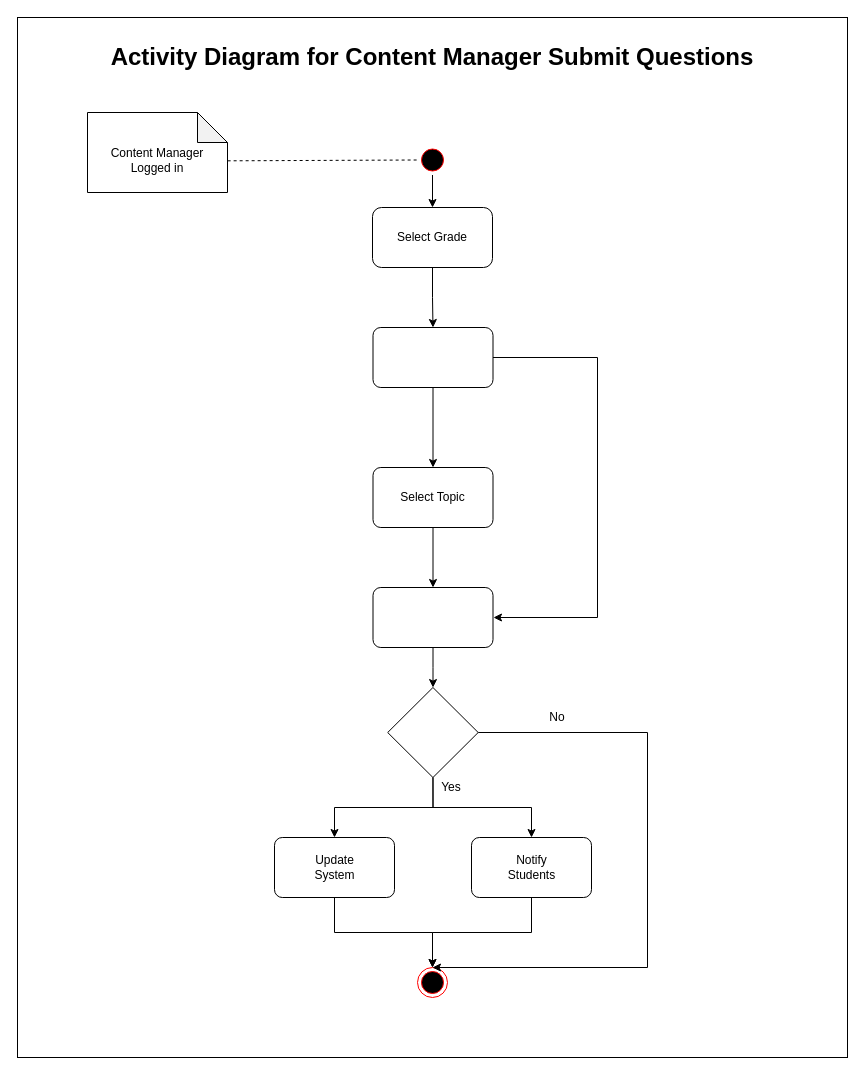
Image size: 865x1075. Some labels were removed from this diagram. Each missing label, with the centre of its shape:
Confirm?: the point at 432,732
Select subject: the point at 432,357
Submit Questions: the point at 432,617
